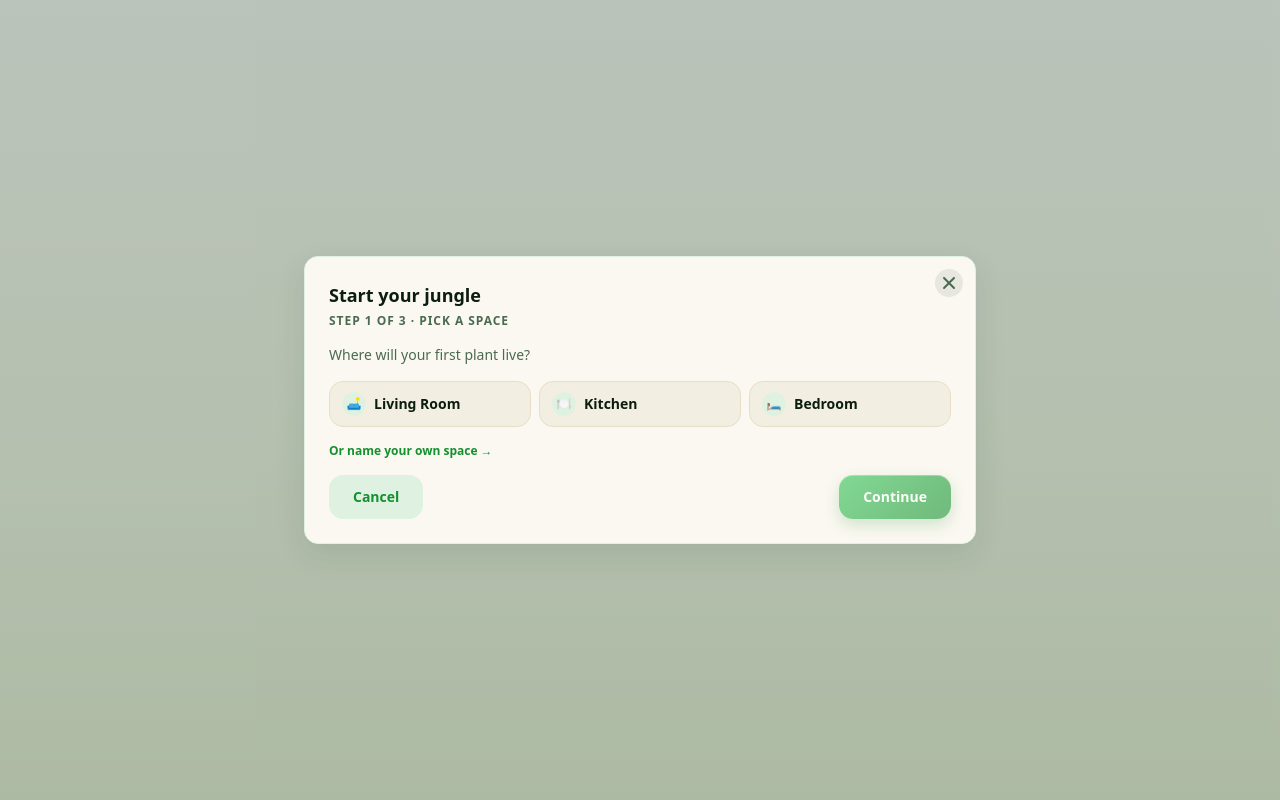
Scenario: StartJungleDialog › enables Continue after picking a preset
Click the checkbox labelled "🛋️ Living Room" at [430, 404], box [330, 382, 530, 426]
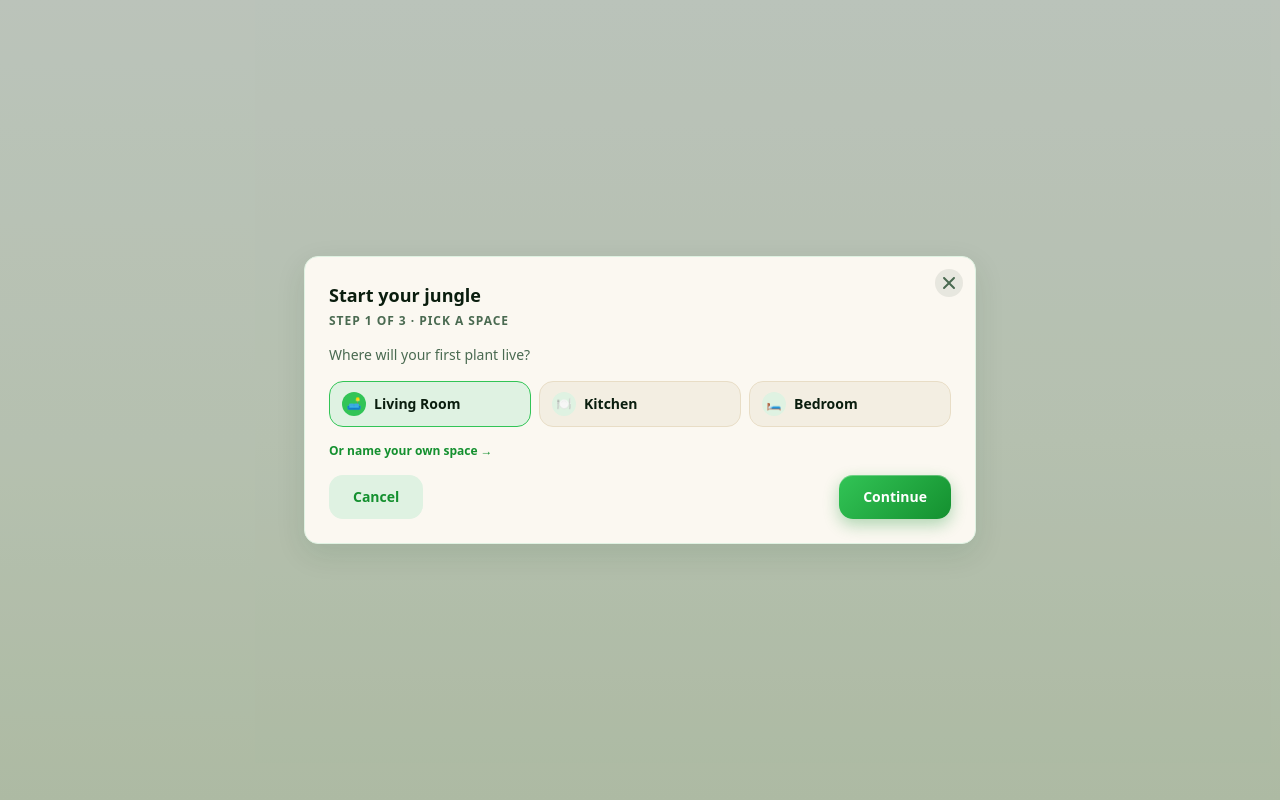
Result: the button "Continue" is enabled at [839, 475, 951, 519]
